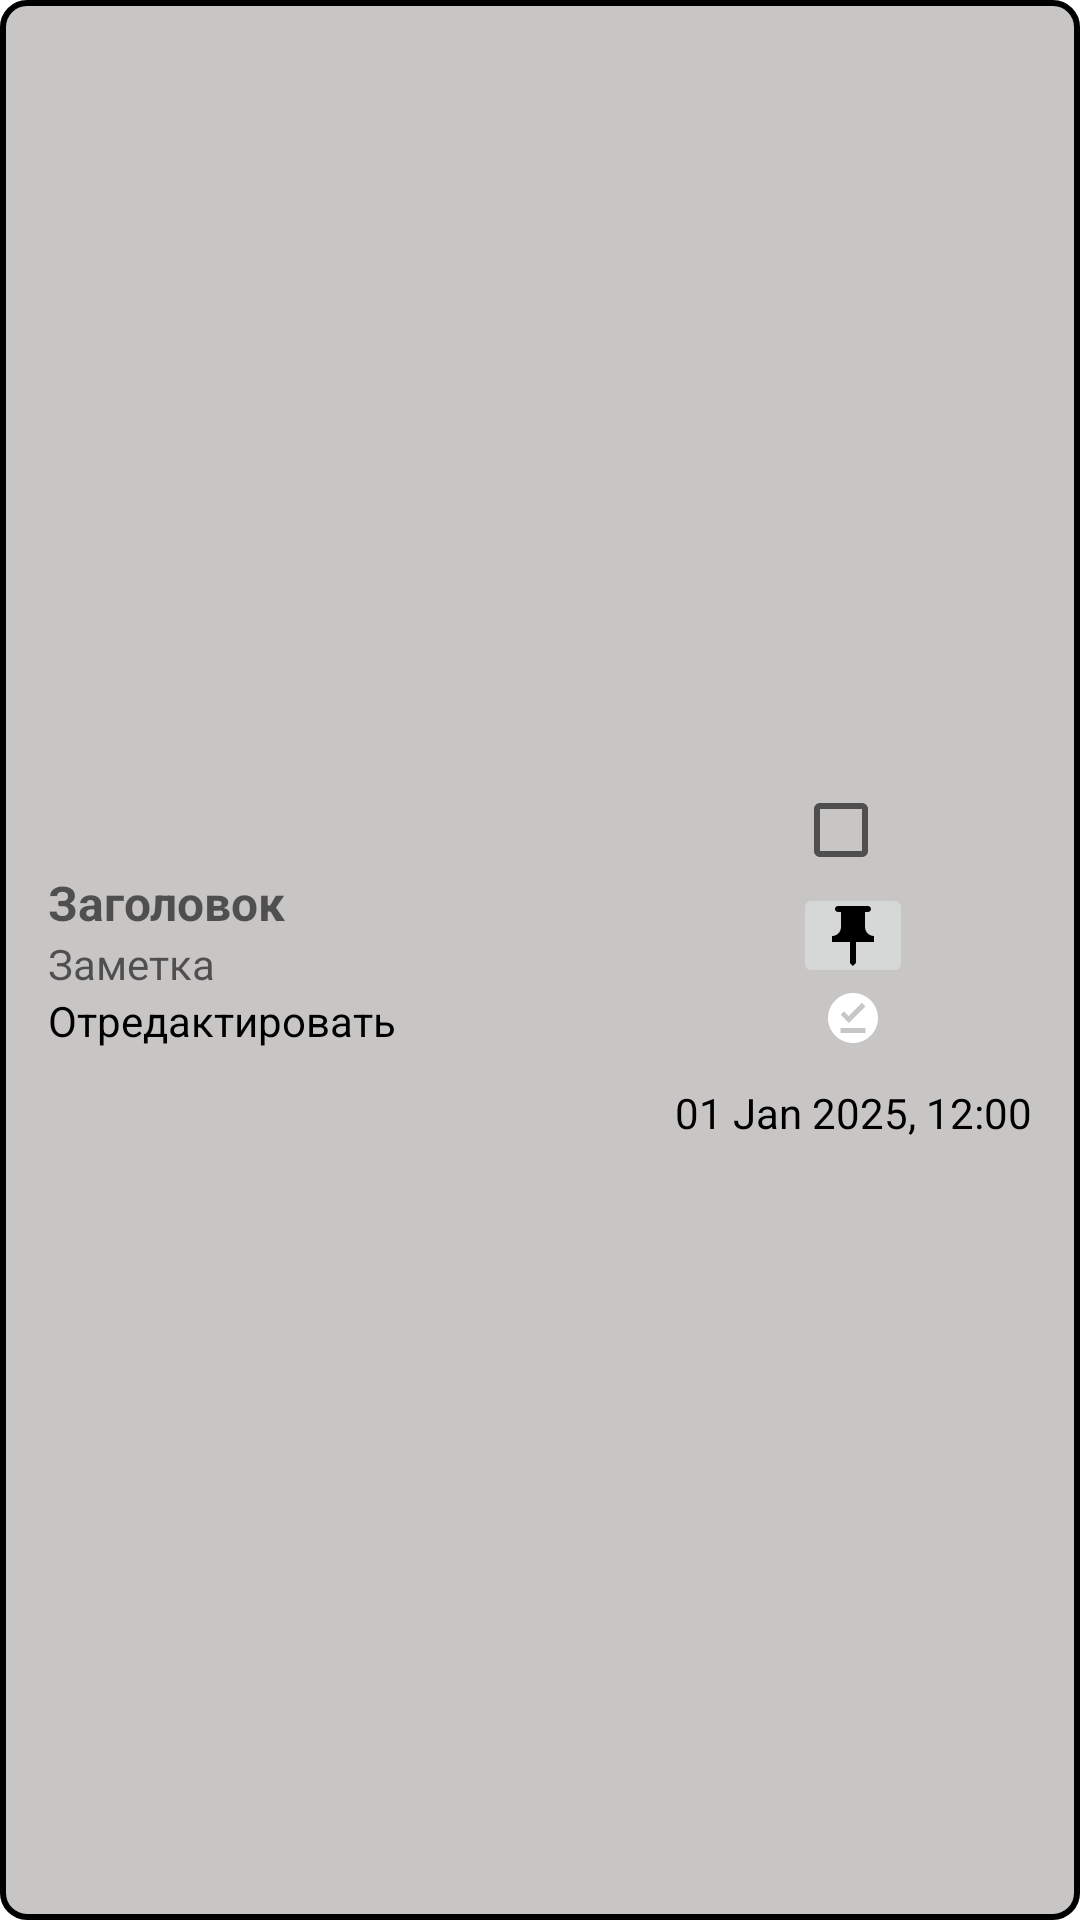

Icons on this 1080 × 1920 Android screen, each with its box as (x1, y1, x2, y2):
push pin: (805, 901, 901, 970)
